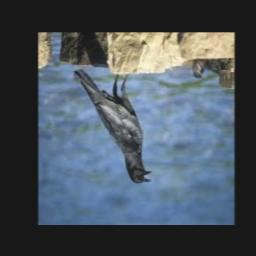Crow: (74, 69, 151, 184)
